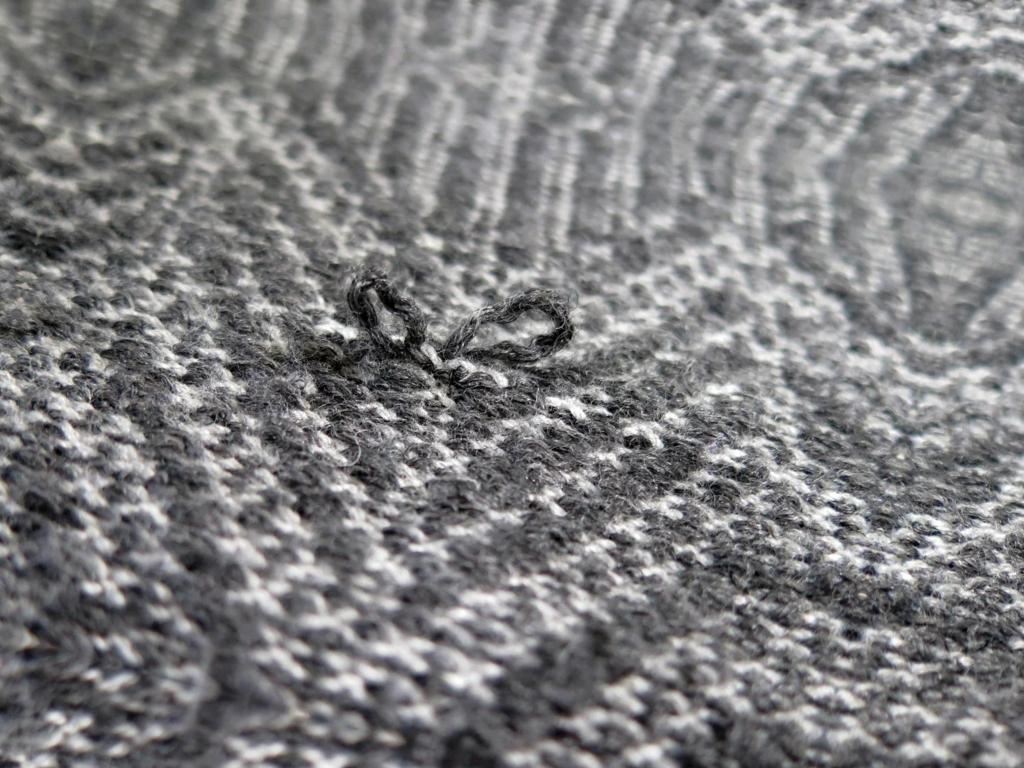snag: (440, 274, 603, 383), (336, 261, 430, 374)
